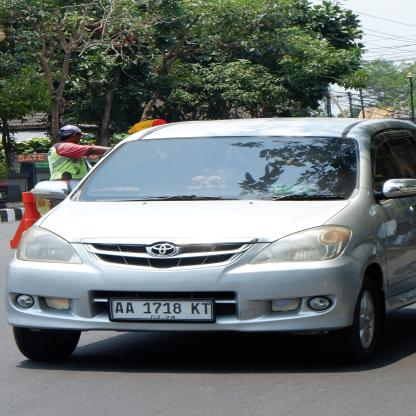Plat-Nomor: (103, 292, 221, 326)
